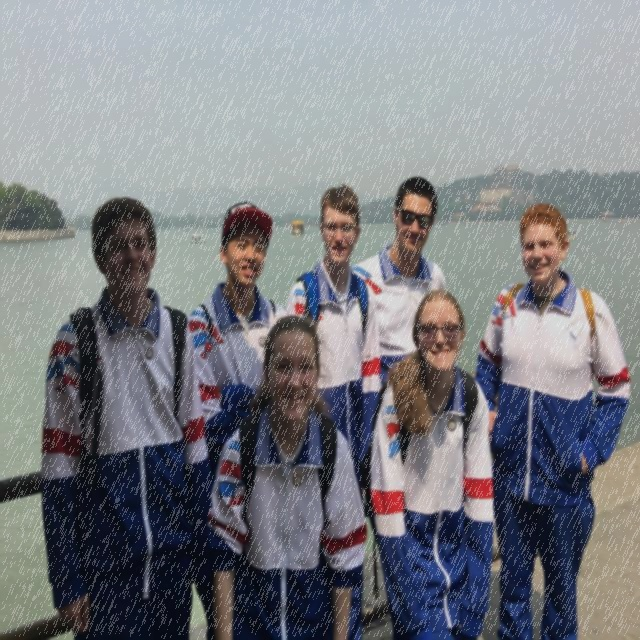pessoa: (34, 193, 212, 639), (469, 195, 633, 640), (201, 308, 371, 639), (362, 284, 500, 640), (186, 200, 288, 640), (282, 182, 384, 508), (350, 175, 448, 394), (291, 220, 306, 238), (190, 231, 204, 244), (566, 227, 578, 240), (57, 226, 73, 233), (28, 228, 50, 233), (619, 218, 628, 224)
